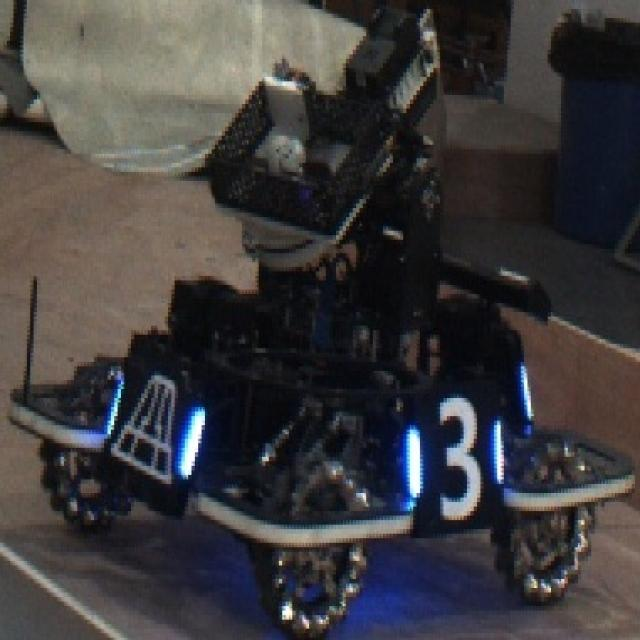B3: (407, 394, 502, 516)
